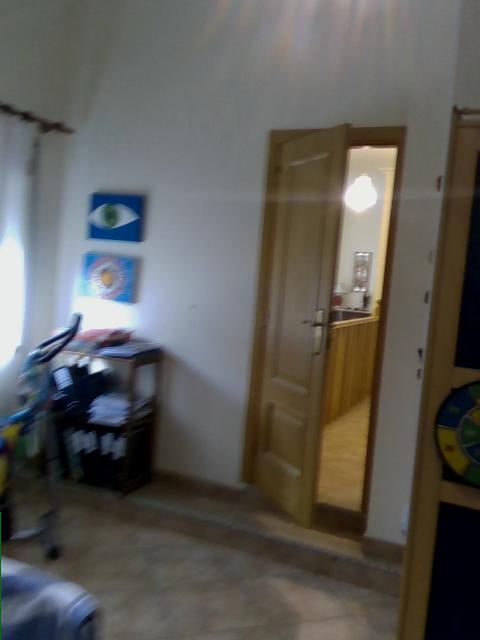semi_door: (239, 120, 406, 538)
